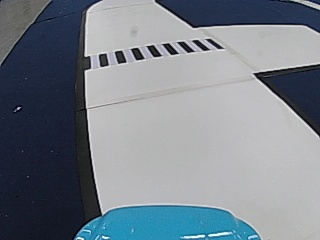CrossWalk: (88, 37, 221, 67)
